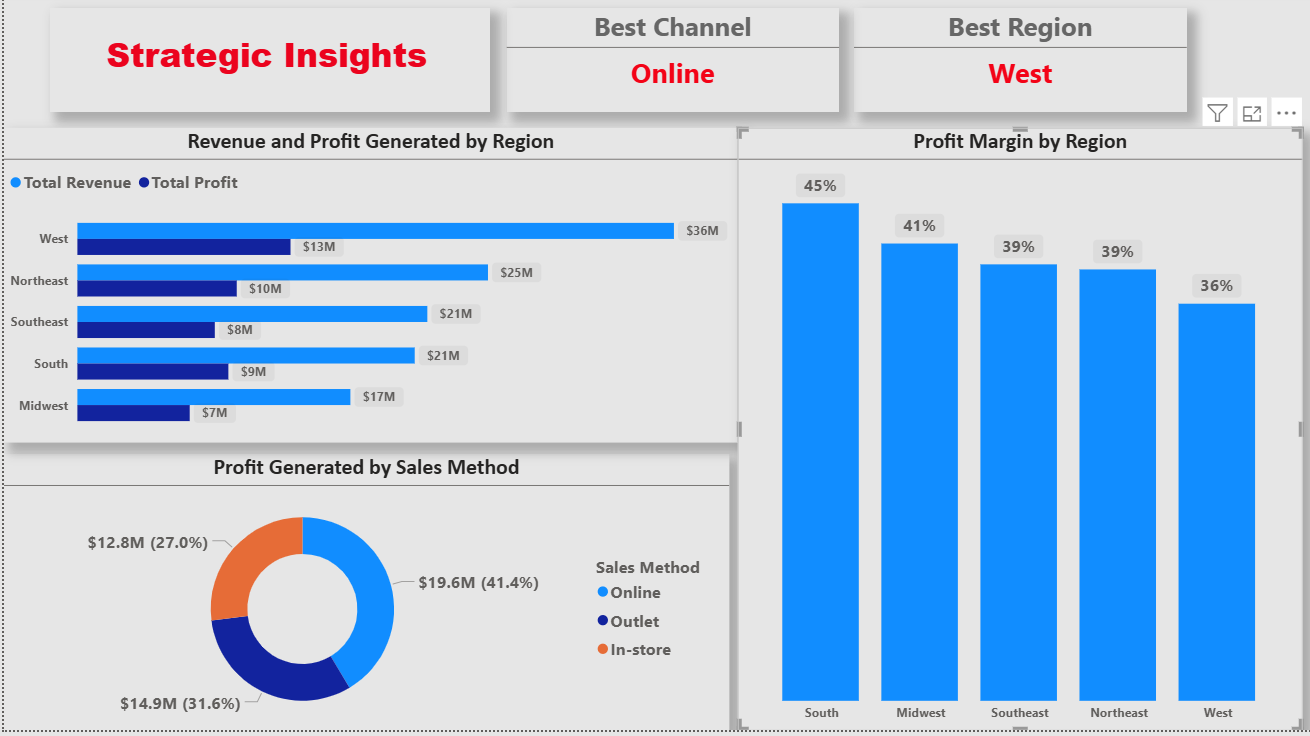

Layout of this report page (visuals, bound fields, positions):
{"tool":"powerbi","page":{"name":"insight","canvas":[1280,720],"ordinal":3},"visuals":[{"type":"textbox","box":[12.2,13.5,430.4,143.1],"z":0},{"type":"donutChart","title":"Profit Generated by Sales Method","fields":{"Category":["Sheet4.Sales Method"],"Y":["Sheet4.Total profit"]},"box":[8.6,171.2,502.6,333.8],"z":1000},{"type":"textbox","title":"Best Channel","box":[491.6,13.5,325.3,102.7],"z":2000},{"type":"textbox","title":"Best Region","box":[831.5,13.5,325.3,102.7],"z":3000},{"type":"clusteredBarChart","title":"Revenue and Profit Generated by Region","fields":{"Category":["Sheet4.Region"],"Y":["Sum(Sheet4.Revenue)","Sheet4.Total profit"]},"box":[528.3,140.6,695.8,343.6],"z":4000},{"type":"clusteredBarChart","fields":{"Category":["Sheet4.Region"],"Y":["Sheet4.Profit Margin"]},"box":[8.6,514.8,566.2,205.4],"z":4001}]}

Visuals, with their boxes in screenshot pixels (x1, y1, x2, y2), scaled from the page's 1280x720 canvas onto the 1310x736 screenshot:
textbox: region(12, 14, 453, 160)
"Profit Generated by Sales Method" donutChart: region(9, 175, 523, 516)
"Best Channel" textbox: region(503, 14, 836, 119)
"Best Region" textbox: region(851, 14, 1184, 119)
"Revenue and Profit Generated by Region" clusteredBarChart: region(541, 144, 1253, 495)
clusteredBarChart - Sheet4.Region x Sheet4.Profit Margin: region(9, 526, 588, 735)
